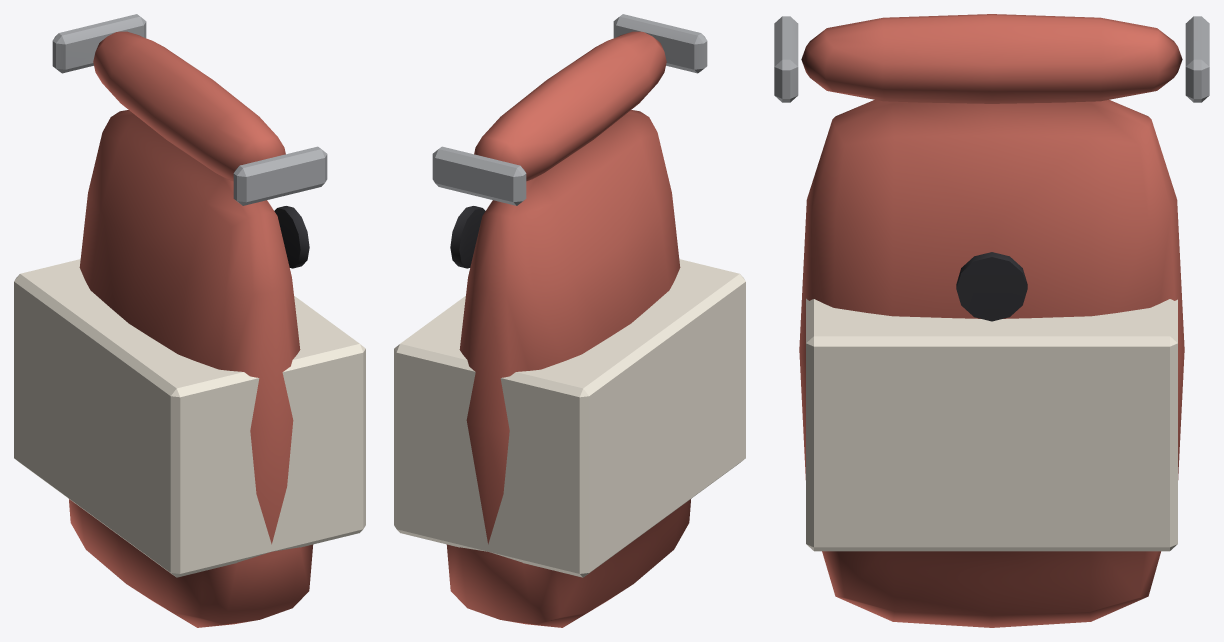
File: coffee_grounds.glb
3 renders of one model, left to right at view 1: azimuth 30°, elevation 25°; view 2: azimuth 150°, elevation 25°; view 3: azimuth 270°, elevation 25°, orthographic. The views are drawn at different scales.
Visible parts, largest first — view 1: PART; view 2: PART; view 3: PART.
Boxes of the visible parts, x1,y1,x2,y2 form: PART: [14, 14, 365, 627]; PART: [394, 14, 745, 627]; PART: [774, 14, 1209, 627].
Bounding box in the file's own units: 0.0669 × 0.1669 × 0.11.
